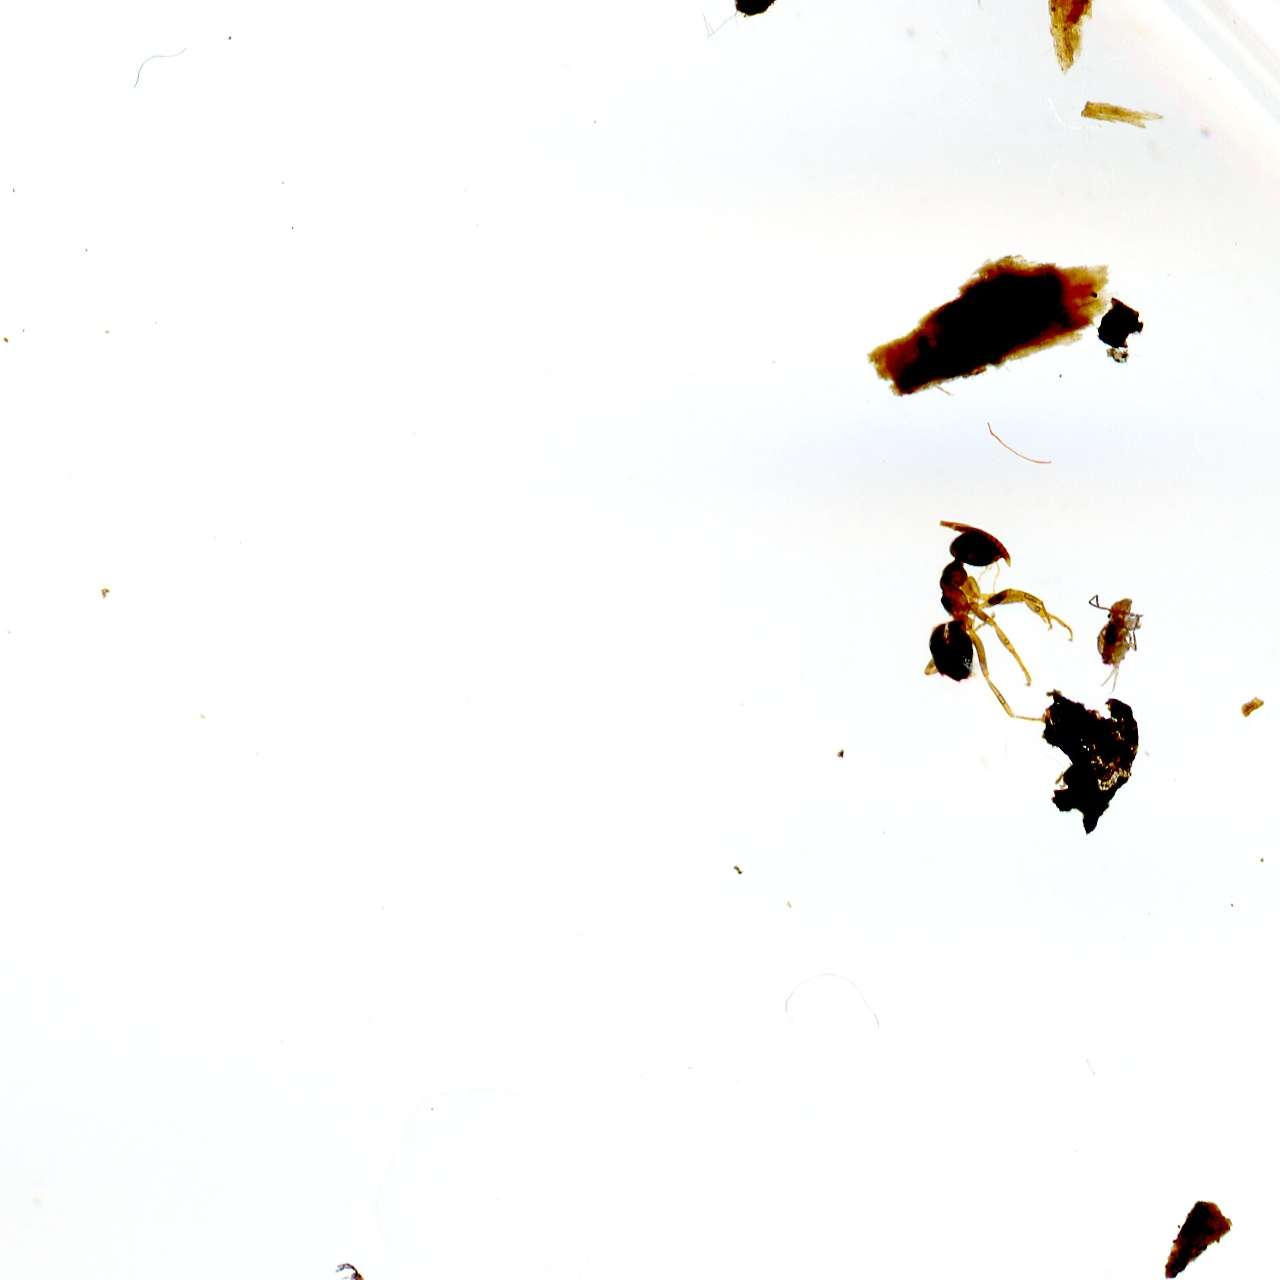arthropod: (920, 514, 1078, 729), (1086, 590, 1147, 698), (332, 1260, 374, 1280)
